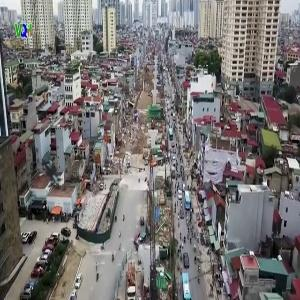drone: (12, 136, 89, 213)
